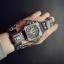watch: (19, 19, 48, 43)
